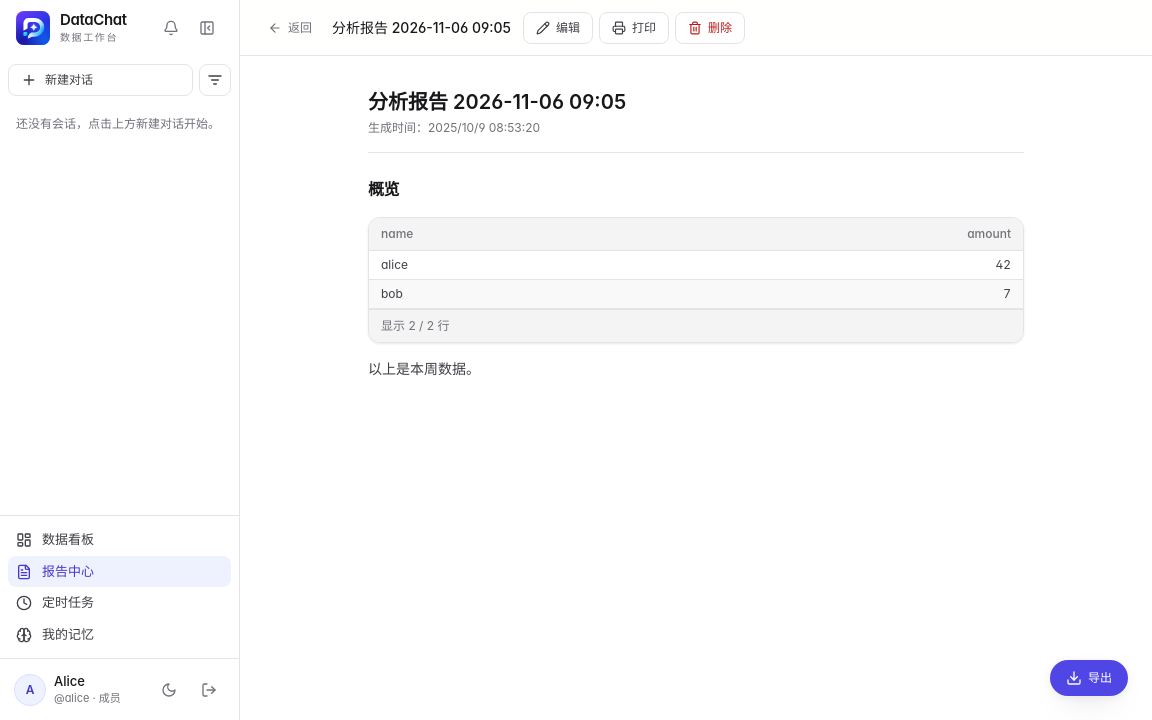
Test: ReportPage › hides floating export button while editing
Expected: the heading "分析报告 2026-11-06 09:05" is shown, x1=368 y1=90 x2=626 y2=114
Expected: the button "导出" is shown, x1=1050 y1=660 x2=1128 y2=696
Click the button "编辑" at (558, 28), box x1=523 y1=12 x2=593 y2=44
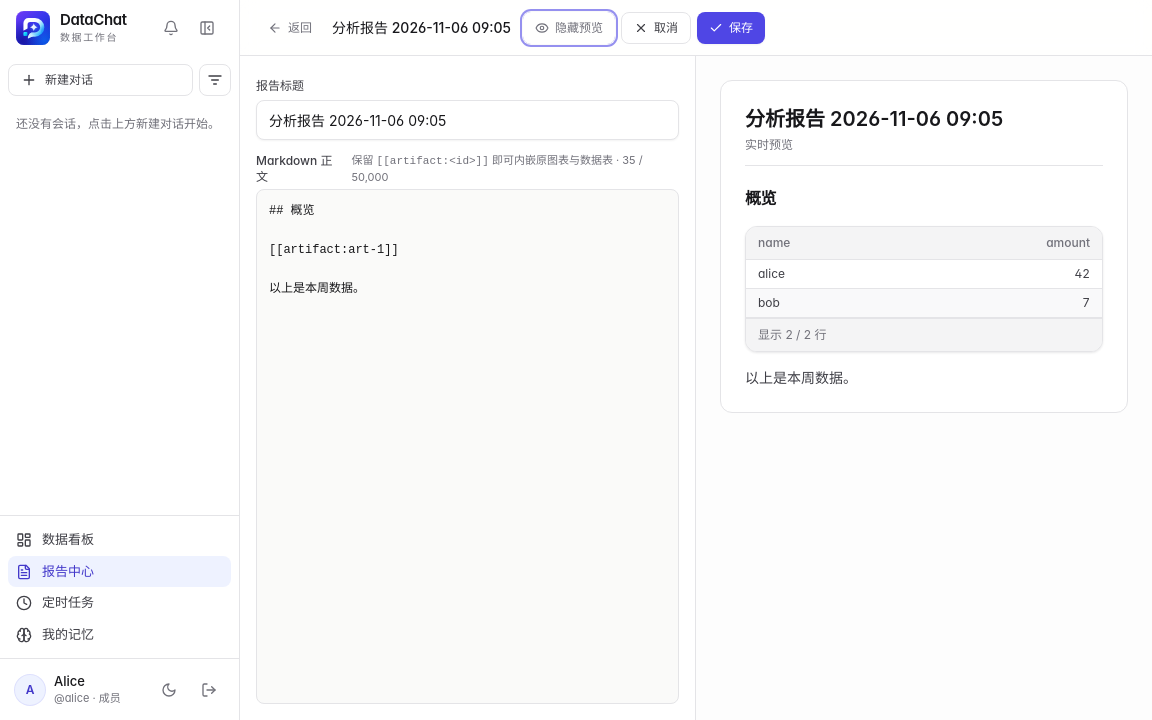
Expected: the button "导出" is gone
